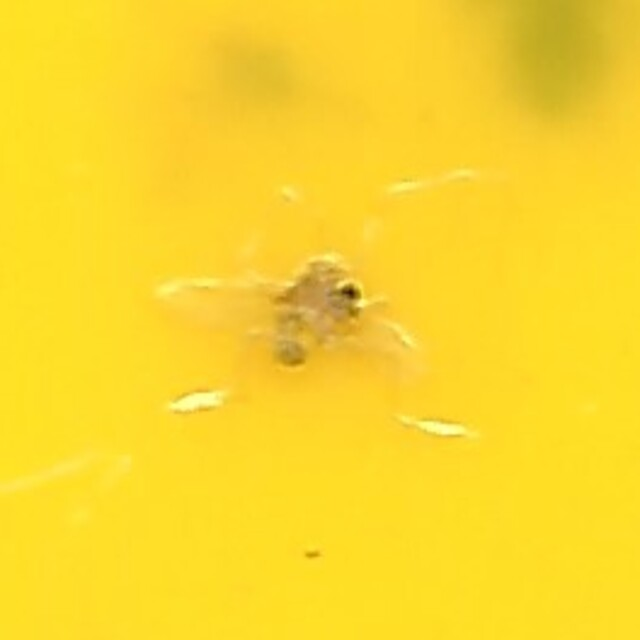Nematocera: (242, 260, 398, 380)
